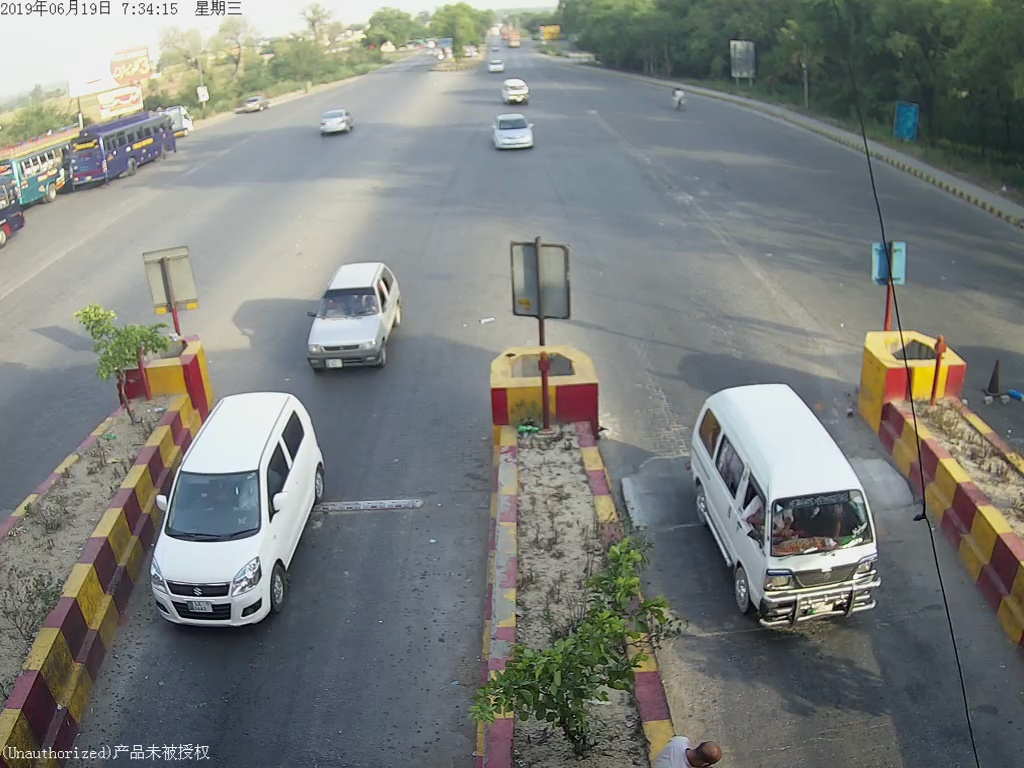Cat-1: (690, 376, 885, 635), (153, 395, 327, 639), (302, 261, 407, 373), (490, 113, 541, 154)
